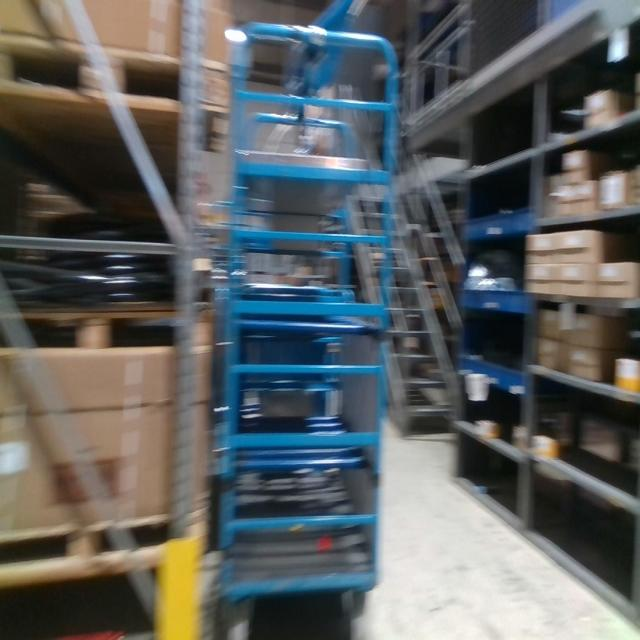pallet: (0, 32, 232, 123), (0, 502, 210, 592), (0, 299, 218, 357)
